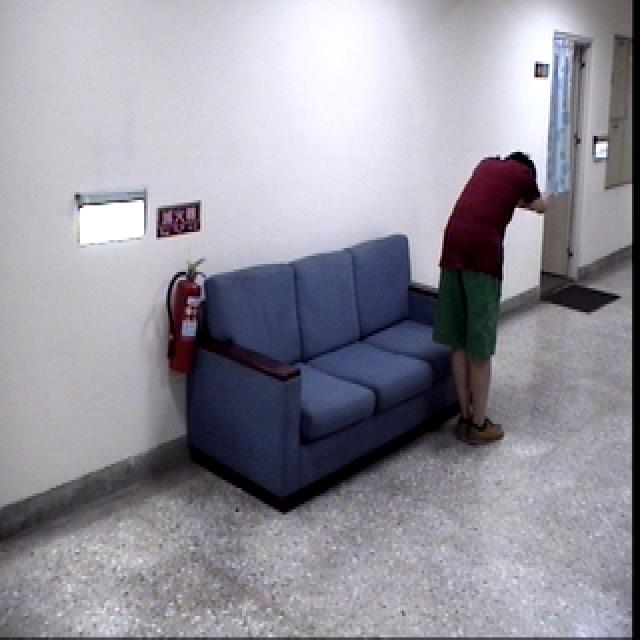bend: (426, 141, 564, 446)
